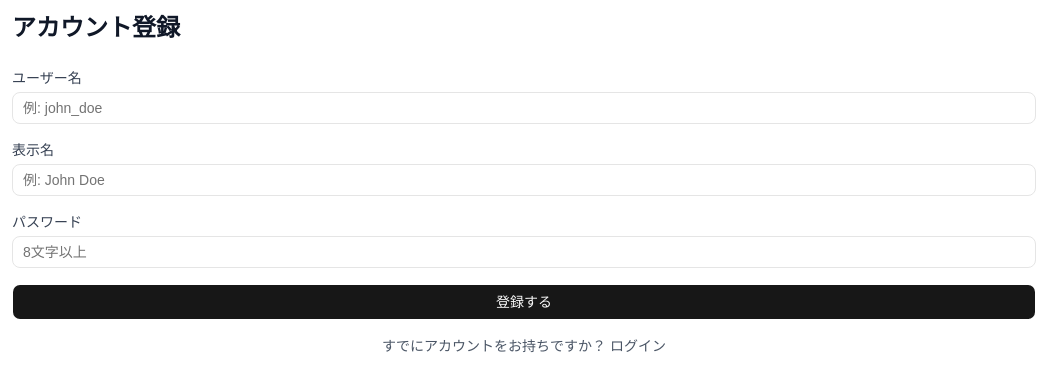
it: RegisterForm › 8文字未満のパスワードでバリデーションエラーが表示される
Step 1. Type "validuser" into the field with placeholder "例: john_doe" → (524, 108), box left=12, top=92, right=1036, bottom=124
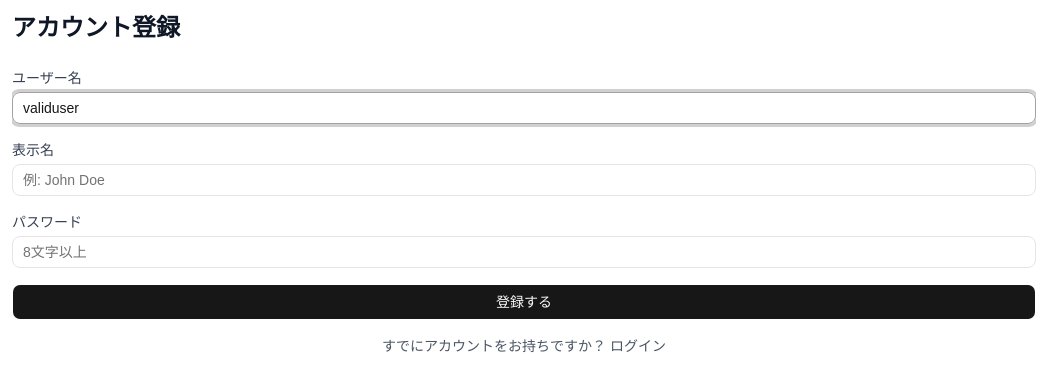
Step 2. Type "Valid User" into the field with placeholder "例: John Doe" → (524, 180), box left=12, top=164, right=1036, bottom=196
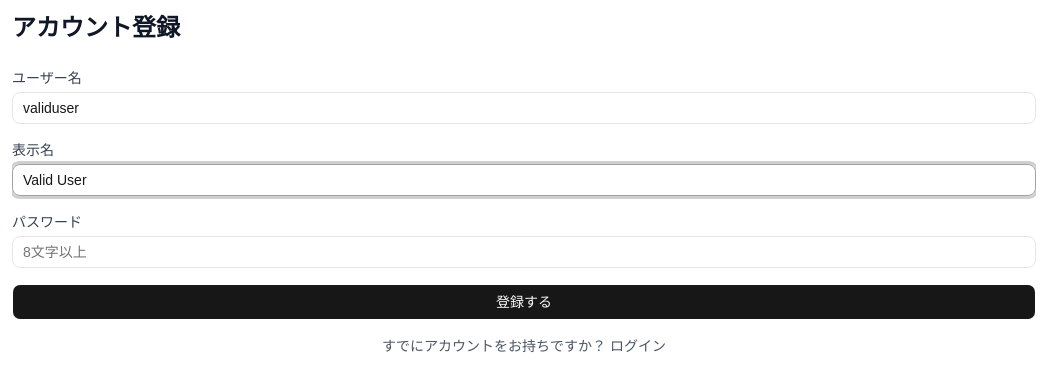
Step 3. Type "short" into the password field with placeholder "8文字以上" → (524, 252), box left=12, top=236, right=1036, bottom=268
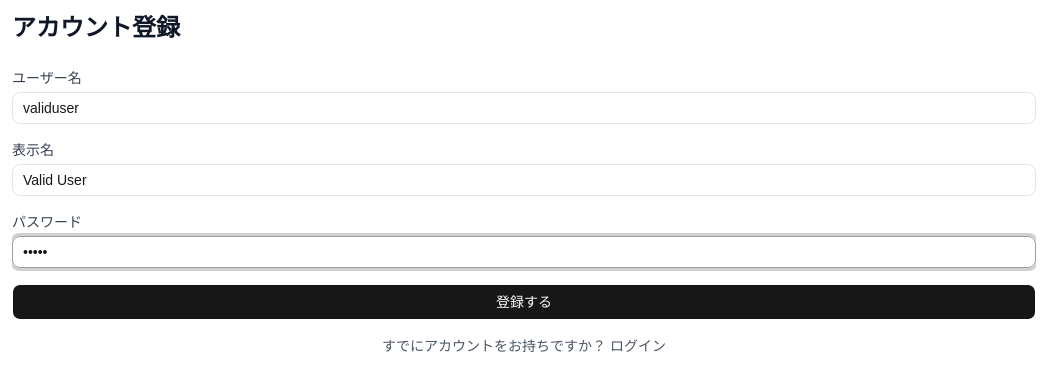
Step 4. Click the button "登録する" → click(524, 302), box left=12, top=284, right=1036, bottom=320
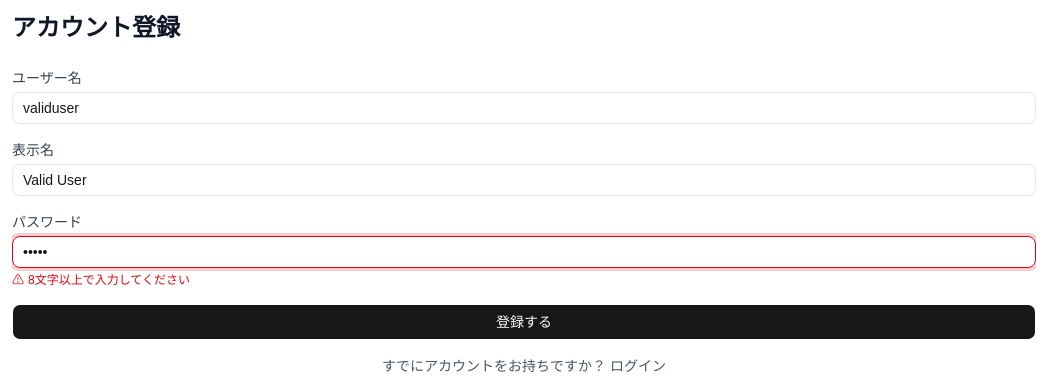
Result: the text "8文字以上で入力してください" is shown at left=28, top=273, right=190, bottom=287
